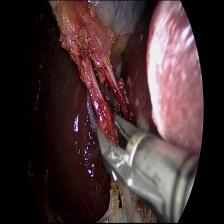Clipper: (93, 67, 190, 224)
